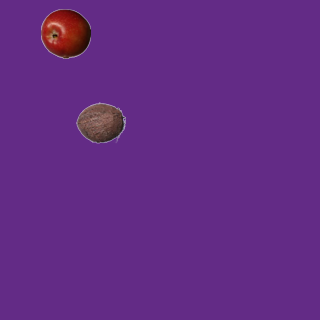Apple Braeburn: (40, 8, 90, 58)
Cocos: (75, 97, 125, 147)
